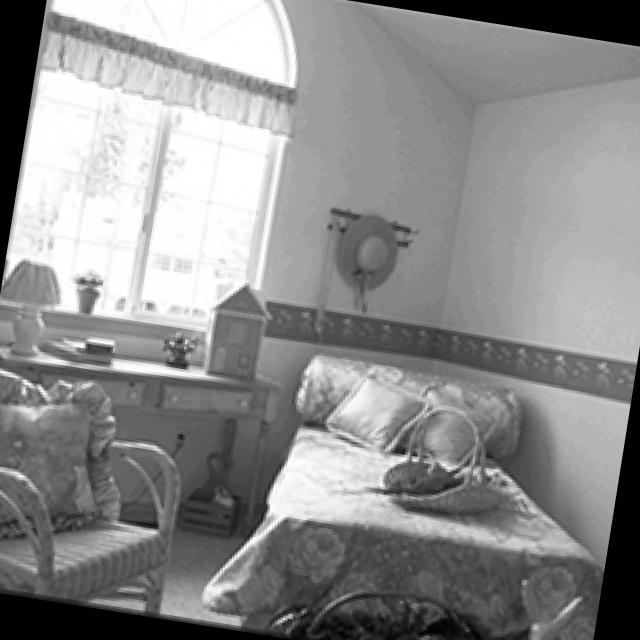2001: (4, 0, 293, 322)
basket crop: (378, 408, 524, 508), (183, 452, 236, 526)
bed -occluded-: (203, 351, 599, 640)
books crop: (38, 334, 110, 358)
ceiling beam: (363, 3, 640, 99)
chair -occluded-: (0, 366, 176, 605)
curtain crop: (39, 9, 277, 130)
desk mat: (1, 258, 55, 353)
frieze: (261, 296, 633, 399)
hanging hat: (333, 212, 394, 281)
pillow occluded: (0, 368, 112, 533), (322, 366, 426, 449), (397, 383, 494, 460)
plant -x: (264, 590, 479, 640), (70, 270, 101, 309), (161, 332, 191, 362)
table -X: (0, 340, 280, 524)
toy crio: (201, 280, 267, 375), (521, 575, 581, 640)
wall outlets: (171, 426, 186, 445)
